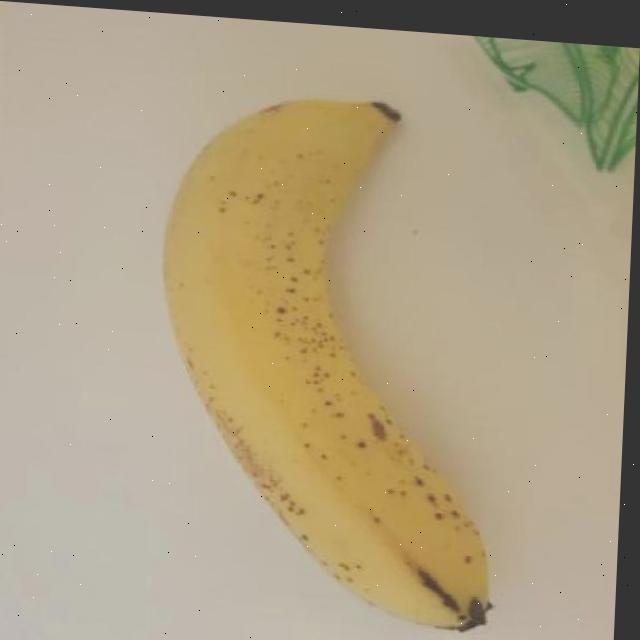banana: (141, 81, 518, 638)
